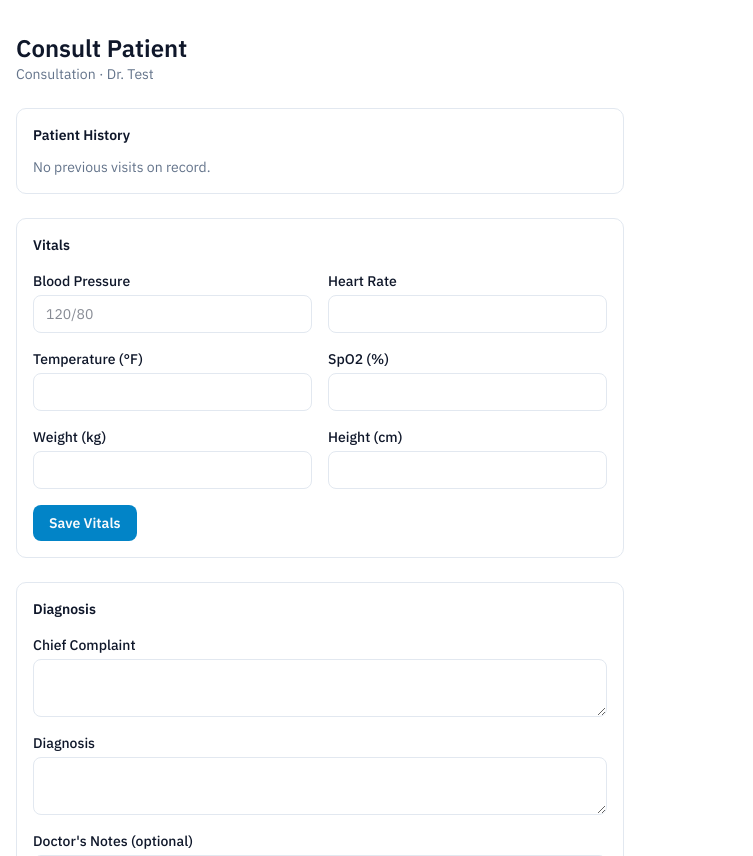
Test: ConsultPage › includes ordered lab tests when saving a visit
The image size is (753, 856).
Type "Fatigue" into the text box labelled "Chief Complaint" at [320, 688], box left=33, top=659, right=607, bottom=717
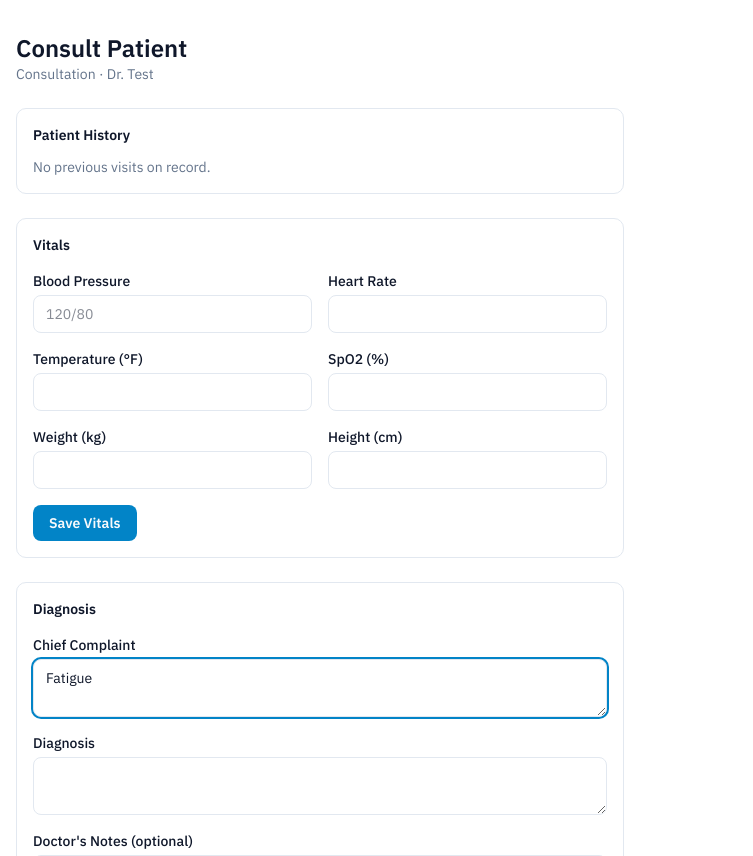
Type "Suspected anemia" into the text box labelled "Diagnosis" at [320, 786], box left=33, top=757, right=607, bottom=815
(page scrolled)
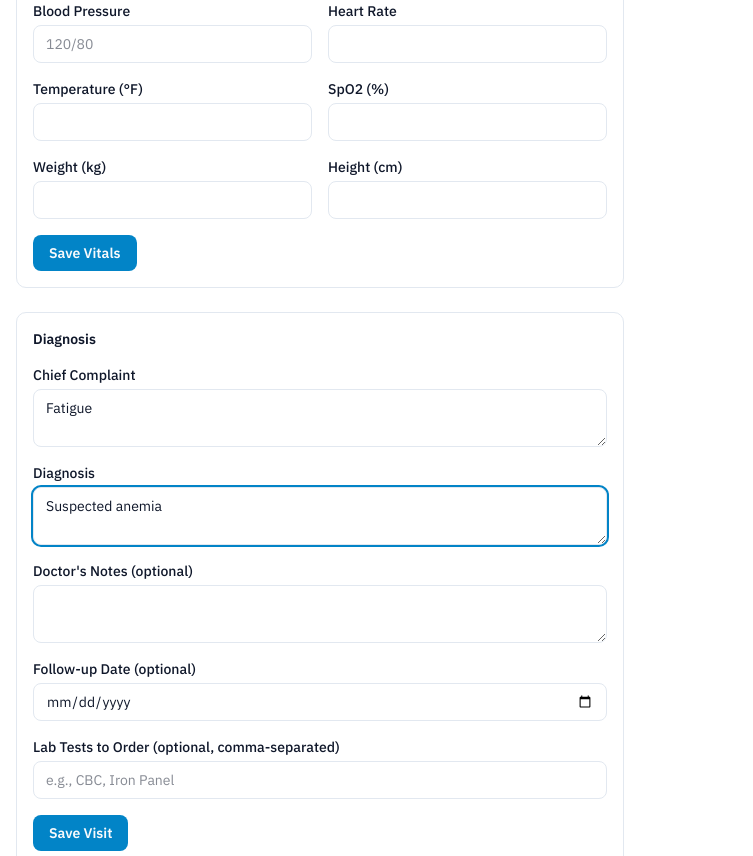
Type "CBC, Iron Panel" into the field labelled "Lab Tests to Order (optional, comma-separated)" at [320, 780], box left=33, top=761, right=607, bottom=799
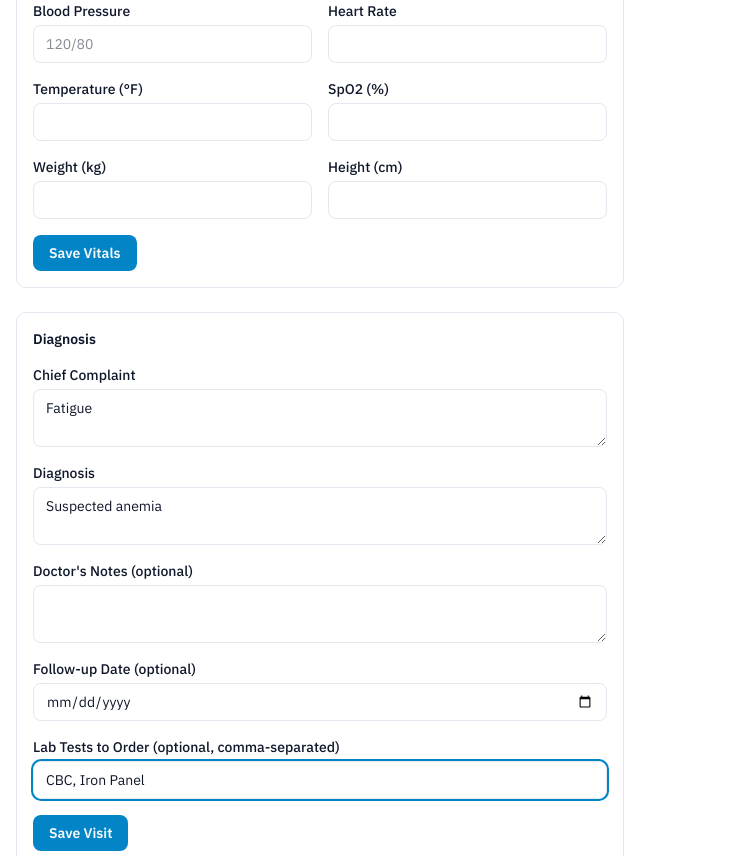
Click the button "Save Visit" at [81, 833], box left=33, top=815, right=128, bottom=851
(page scrolled)
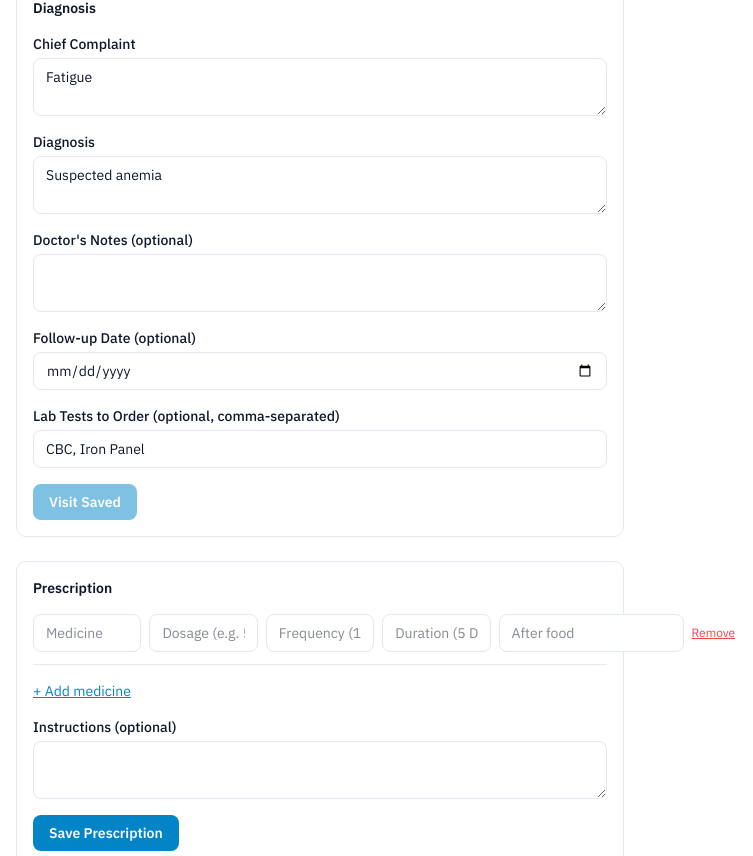
Expected: the heading "Prescription" is shown, left=33, top=579, right=112, bottom=597
